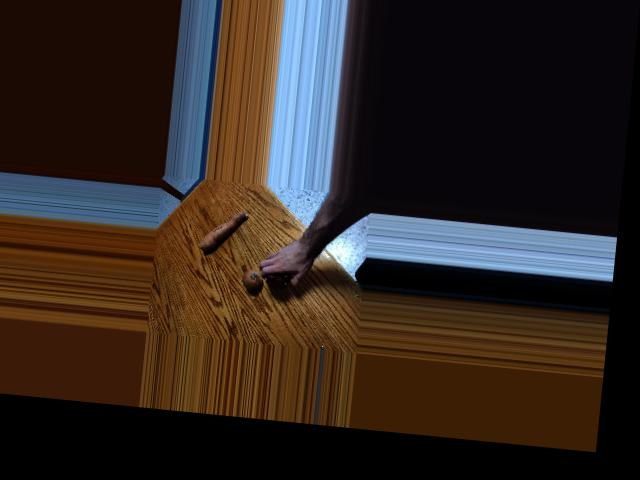onion: (265, 263, 292, 289)
